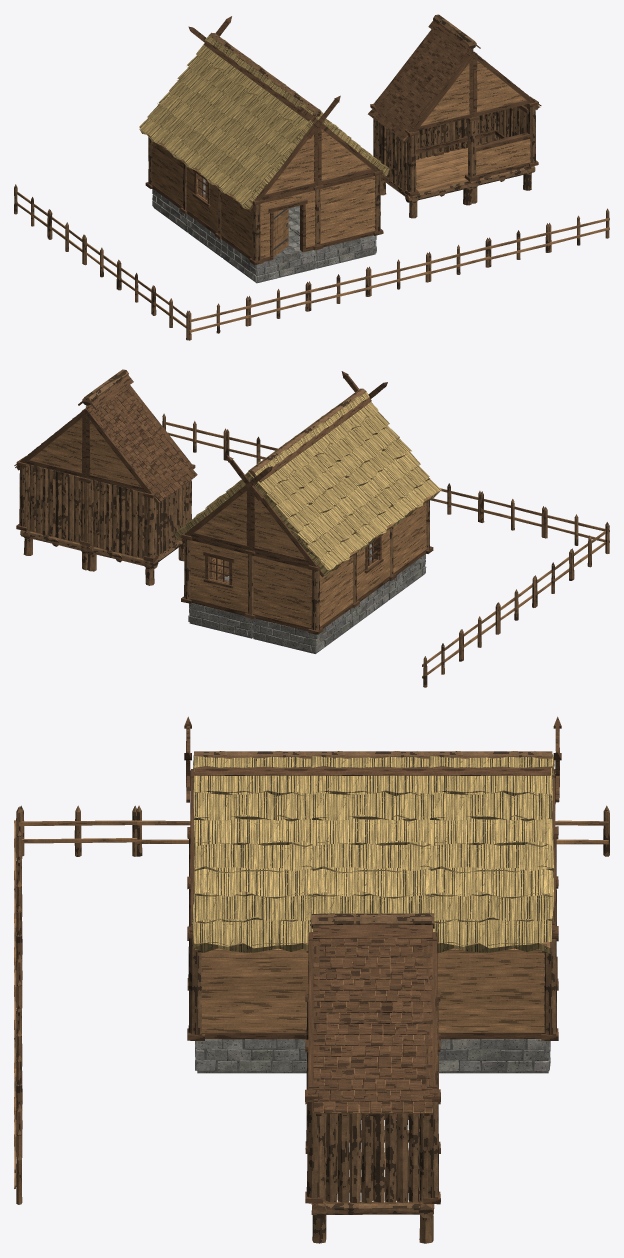
File: casa_exemplo.glb
The picture shows the model from 3 angles, top to bottom: view 1: azimuth 30°, elevation 25°; view 2: azimuth 150°, elevation 25°; view 3: azimuth 270°, elevation 25°; orthographic projection. The views are drawn at different scales.
Visible parts, largest first — view 1: telhado_palha_palha (×4), parede_tabuas_madeira (×3), parede_triangular_madeira (×4), fundacao_pedra_pedra (×4), telhado_tabuinhas_madeira_escura, parede_troncos_tronco (×4), parede_triangular_madeira_escura (×4), fundacao_madeira_madeira (×2), fundacao_madeira_tronco (×2), pilar_tronco (×3), batente_porta_madeira, meia_parede_madeira (+7 smaller); view 2: telhado_palha_palha (×4), parede_troncos_tronco (×3), parede_tabuas_madeira (×3), parede_triangular_madeira (×4), telhado_tabuinhas_madeira_escura, fundacao_pedra_pedra (×4), parede_triangular_madeira_escura (×4), parede_janela_madeira (×2), fundacao_madeira_tronco (×2), parede_janela_madeira_escura (×2), pilar_tronco (×2), ornamento_empena_madeira_escura (+3 smaller); view 3: telhado_palha_palha (×6), telhado_tabuinhas_madeira_escura, parede_tabuas_madeira (×2), parede_troncos_tronco, fundacao_pedra_pedra (×2), cumeeira_madeira_escura (×4), pilar_tronco (×4), cumeeira_tronco (×4), parede_triangular_madeira_escura (×2), fundacao_madeira_tronco, parede_tabuas_madeira_escura (×2), telhado_tabuinhas_madeira (+1 smaller).
Part boxes in pixels (x1,y1,x2,y2): telhado_palha_palha (×4): [139, 40, 389, 209]; parede_tabuas_madeira (×3): [151, 141, 375, 257]; parede_triangular_madeira (×4): [265, 61, 526, 194]; fundacao_pedra_pedra (×4): [152, 178, 376, 283]; telhado_tabuinhas_madeira_escura: [368, 30, 473, 141]; parede_troncos_tronco (×4): [375, 104, 527, 190]; parede_triangular_madeira_escura (×4): [255, 50, 535, 200]; fundacao_madeira_madeira (×2): [385, 141, 492, 193]; fundacao_madeira_tronco (×2): [380, 166, 535, 218]; pilar_tronco (×3): [252, 117, 476, 260]; batente_porta_madeira: [260, 190, 315, 258]; meia_parede_madeira: [476, 139, 530, 175]; telhado_palha_palha (×4): [174, 389, 441, 576]; parede_troncos_tronco (×3): [24, 464, 189, 558]; parede_tabuas_madeira (×3): [253, 502, 426, 627]; parede_triangular_madeira (×4): [30, 418, 306, 559]; telhado_tabuinhas_madeira_escura: [86, 386, 197, 504]; fundacao_pedra_pedra (×4): [188, 543, 426, 653]; parede_triangular_madeira_escura (×4): [20, 407, 317, 566]; parede_janela_madeira (×2): [189, 529, 390, 612]; fundacao_madeira_tronco (×2): [20, 530, 184, 585]; parede_janela_madeira_escura (×2): [189, 534, 390, 615]; pilar_tronco (×2): [146, 493, 319, 630]; ornamento_empena_madeira_escura: [226, 455, 272, 500]; telhado_palha_palha (×6): [192, 751, 554, 953]; telhado_tabuinhas_madeira_escura: [313, 938, 432, 1115]; parede_tabuas_madeira (×2): [200, 943, 544, 1032]; parede_troncos_tronco: [318, 1094, 428, 1202]; fundacao_pedra_pedra (×2): [195, 1039, 550, 1073]; cumeeira_madeira_escura (×4): [194, 752, 550, 938]; pilar_tronco (×4): [188, 929, 556, 1198]; cumeeira_tronco (×4): [193, 751, 552, 928]; parede_triangular_madeira_escura (×2): [308, 933, 437, 1094]; fundacao_madeira_tronco: [311, 1157, 434, 1243]; parede_tabuas_madeira_escura (×2): [201, 1032, 544, 1039]; telhado_tabuinhas_madeira: [313, 938, 432, 1113].
Bounding box in the file's own units: 22.07 × 8.46 × 15.16.
Materials: 6 (6 with a texture image).
